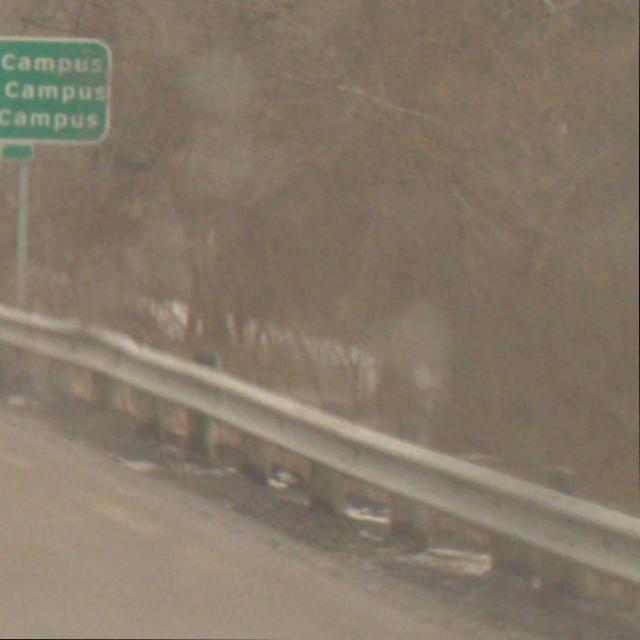Guard rail: (0, 294, 640, 626)
